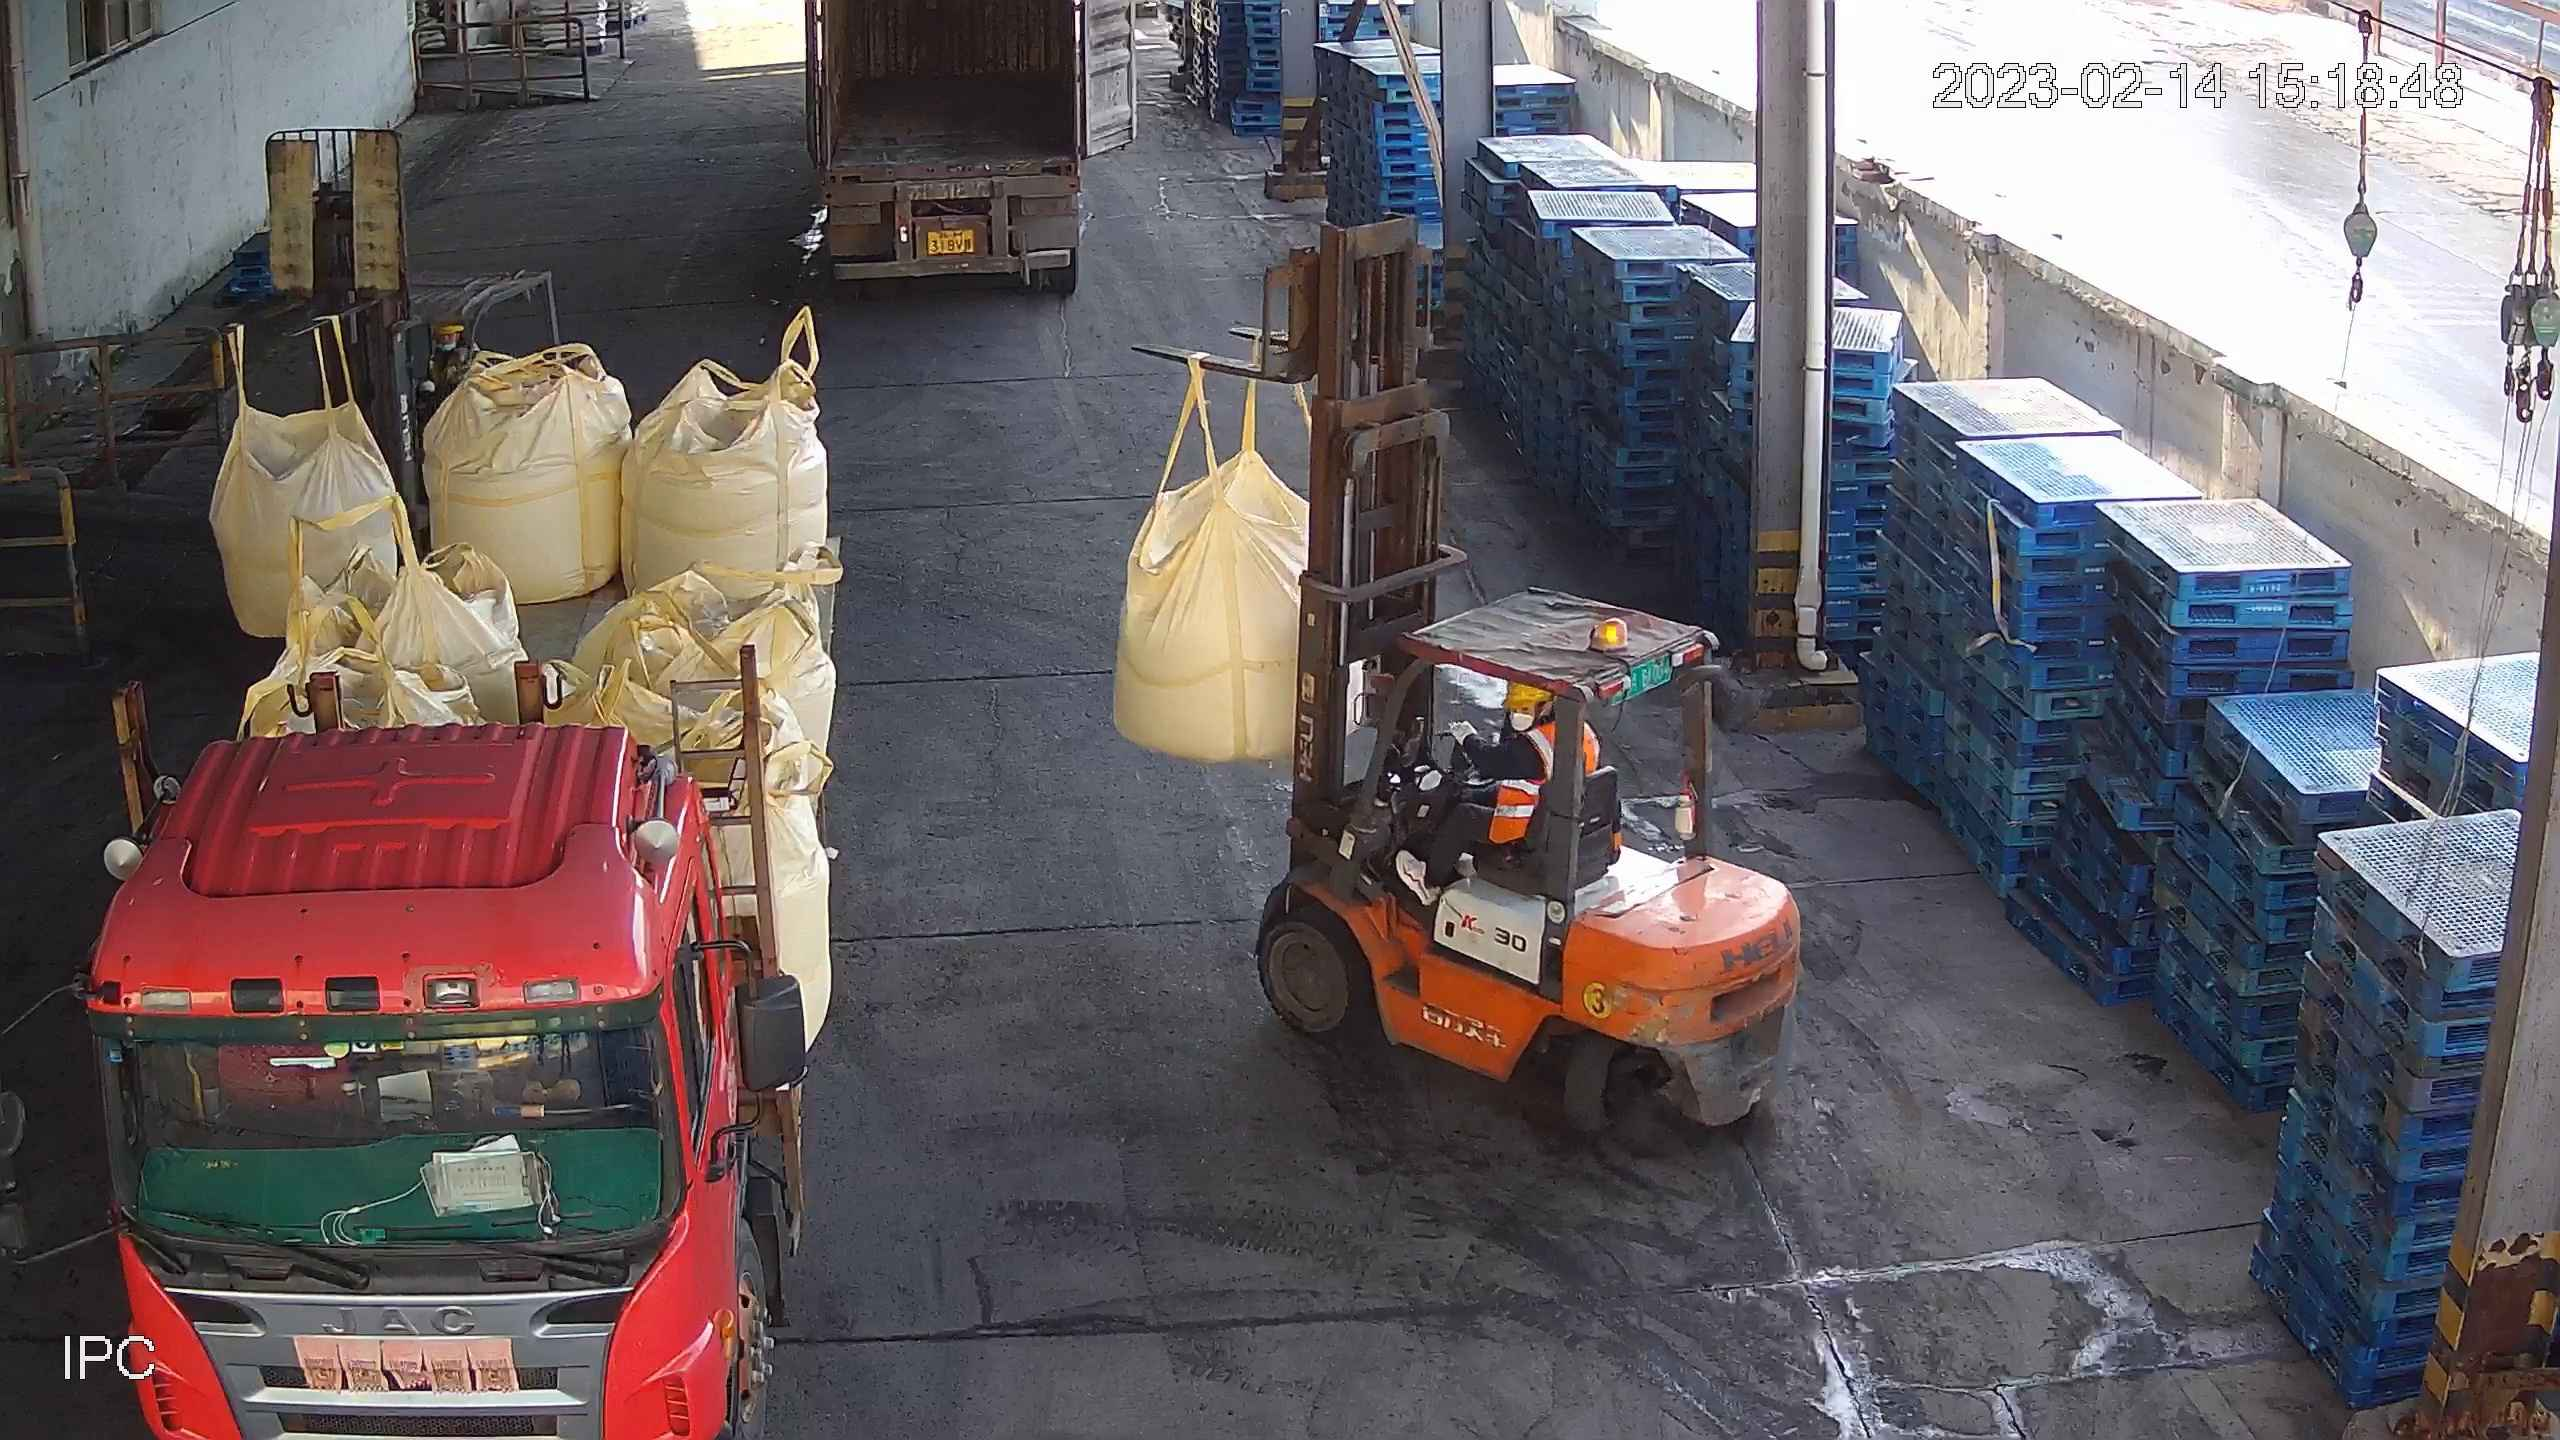head: (1501, 680, 1593, 773)
helmet: (1501, 676, 1550, 708)
people: (1393, 680, 1601, 906)
truck: (1, 533, 842, 1440), (800, 1, 1132, 284)
